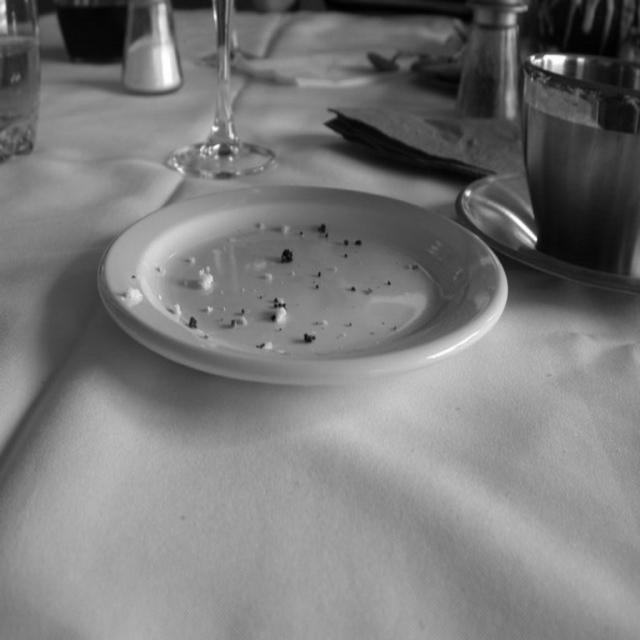non-organic waste: (97, 165, 512, 427)
